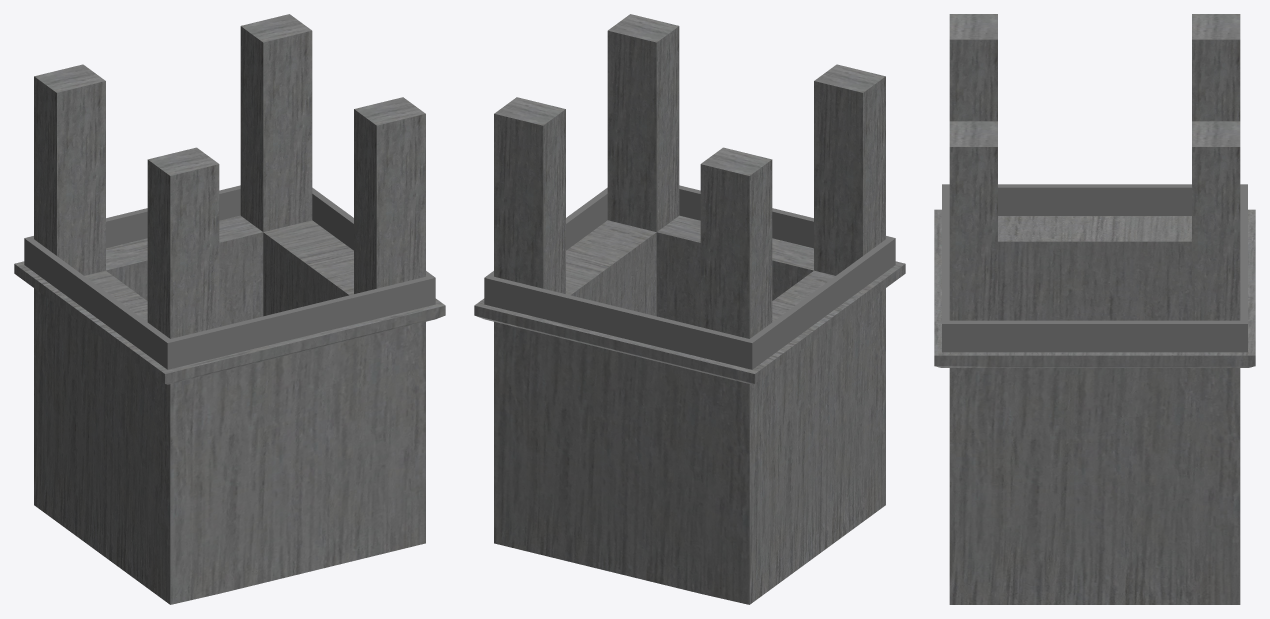
The model's file is BellTower.obj.
3 renders of one model, left to right at view 1: azimuth 30°, elevation 25°; view 2: azimuth 150°, elevation 25°; view 3: azimuth 270°, elevation 25°, orthographic. The views are drawn at different scales.
Visible parts, largest first — view 1: polySurface20 polySurface19 polySurface17 polySurface6 polySurfa; view 2: polySurface20 polySurface19 polySurface17 polySurface6 polySurfa; view 3: polySurface20 polySurface19 polySurface17 polySurface6 polySurfa.
Part boxes in pixels (x1,y1,x2,y2): polySurface20 polySurface19 polySurface17 polySurface6 polySurfa: [14, 14, 445, 604]; polySurface20 polySurface19 polySurface17 polySurface6 polySurfa: [474, 14, 905, 604]; polySurface20 polySurface19 polySurface17 polySurface6 polySurfa: [934, 14, 1255, 604].
Size of the model in its own units: 89.18 by 130 by 83.
2 materials, 1 textured.
